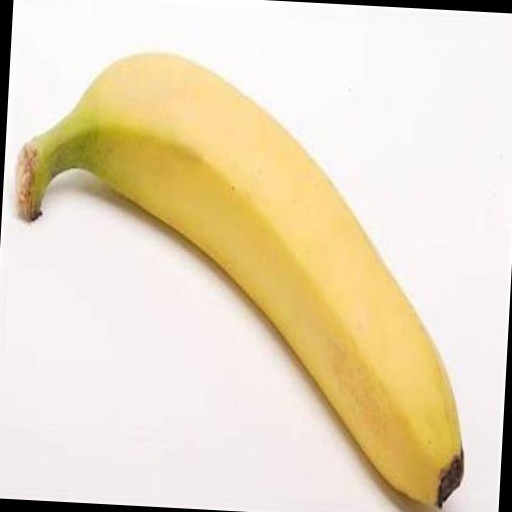fruit: (3, 75, 30, 295)
